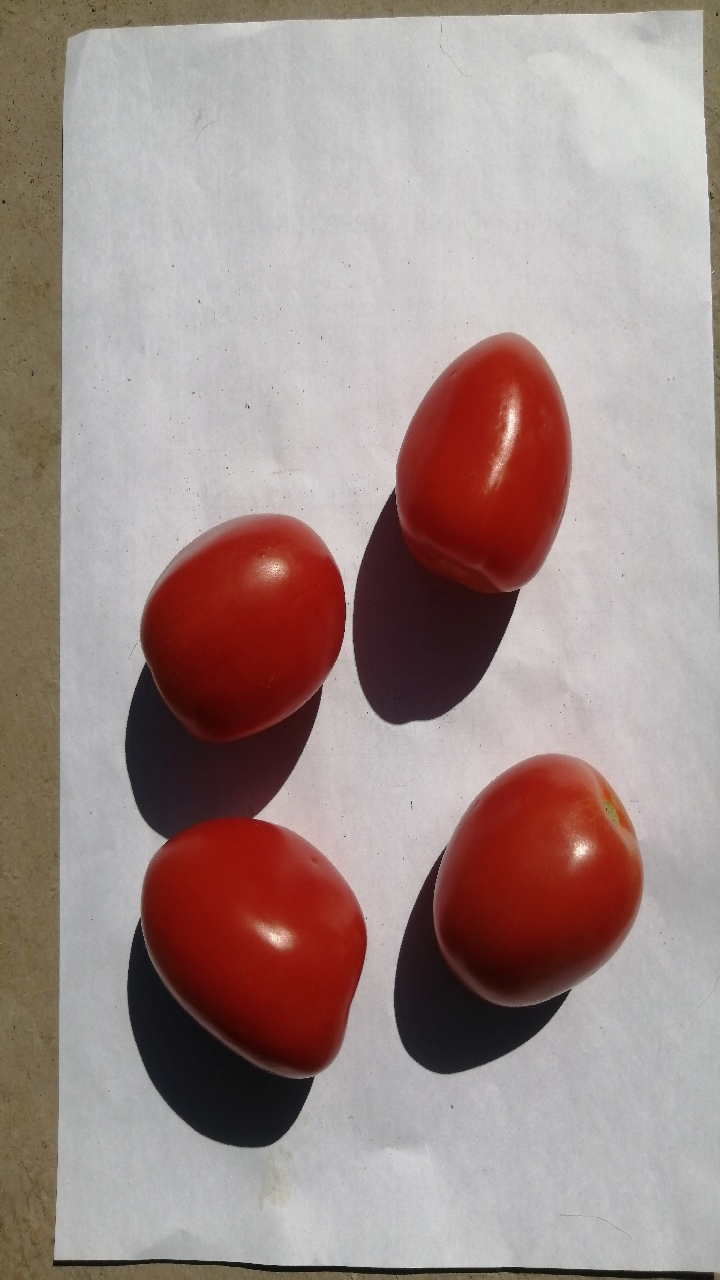tomateRojo: (123, 803, 388, 1103), (375, 299, 594, 608), (426, 729, 649, 1029), (117, 486, 352, 754)
